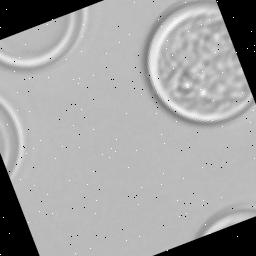picoshell: (145, 0, 255, 123), (0, 6, 89, 69), (0, 94, 26, 177), (196, 202, 256, 237)
